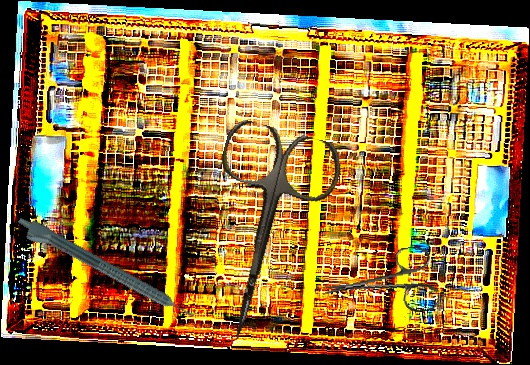Handpiece: (11, 213, 198, 330)
Iris Scissors: (177, 116, 347, 354), (318, 244, 439, 325)
